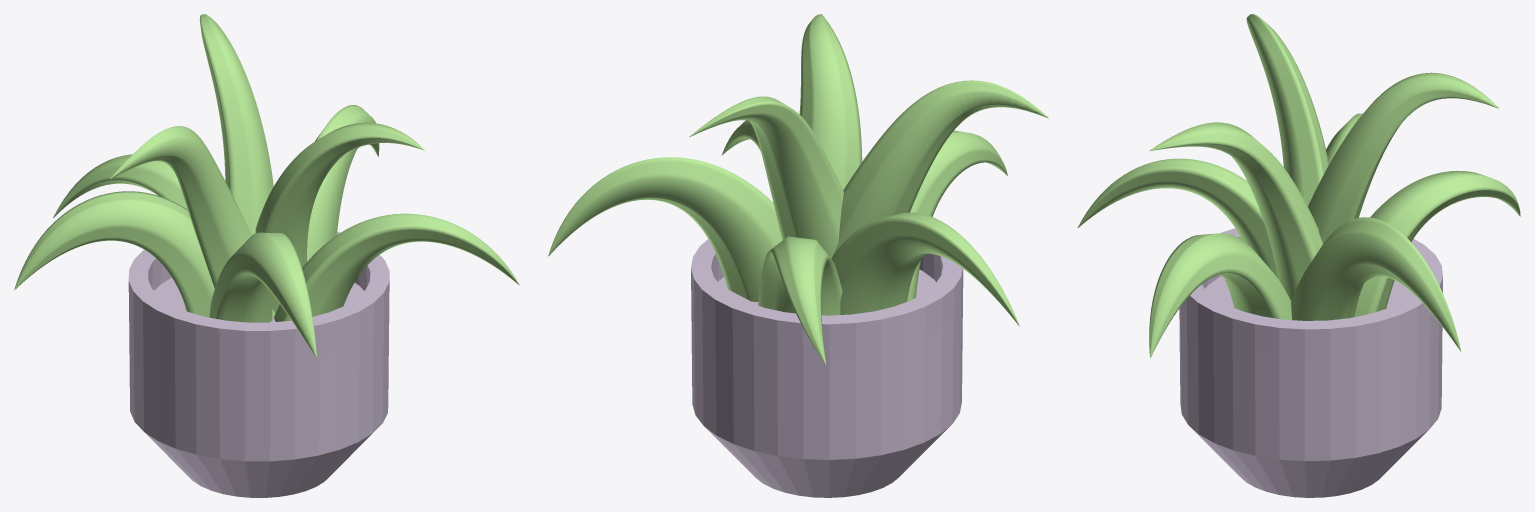
The model's file is planta1.fbx.
3 renders of one model, left to right at view 1: azimuth 30°, elevation 25°; view 2: azimuth 150°, elevation 25°; view 3: azimuth 270°, elevation 25°, orthographic. The views are drawn at different scales.
Parts seen in each view (by area): view 1: PLANTA, maceta; view 2: PLANTA, maceta; view 3: PLANTA, maceta.
Boxes of the visible parts, bbox=[...] form: PLANTA: bbox=[14, 14, 519, 357]; maceta: bbox=[128, 231, 389, 497]; PLANTA: bbox=[548, 14, 1048, 364]; maceta: bbox=[691, 239, 963, 497]; PLANTA: bbox=[1077, 14, 1520, 357]; maceta: bbox=[1179, 228, 1442, 497].
Size of the model in its own units: 116 by 114 by 124.
